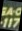character: (12, 17, 20, 28), (5, 6, 13, 16), (15, 7, 22, 16), (2, 17, 7, 28), (7, 18, 12, 28)
